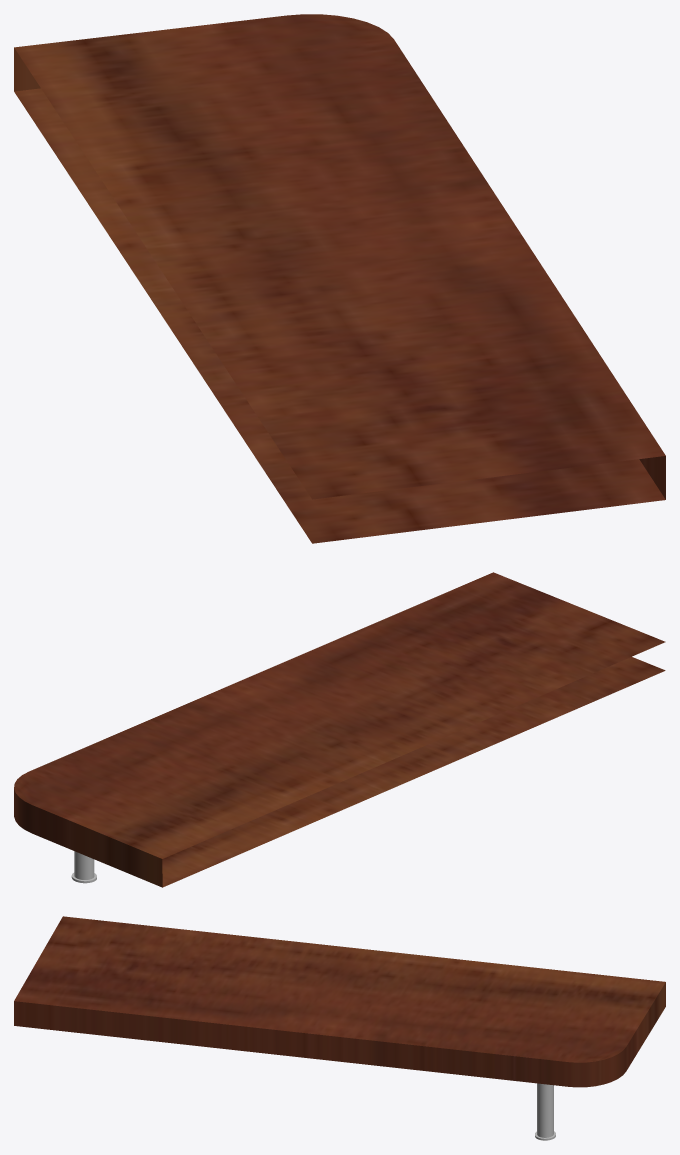
The model's file is banca_aula.glb.
3 views of the same model, one above another, from view 1: azimuth 30°, elevation 25°; view 2: azimuth 150°, elevation 25°; view 3: azimuth 270°, elevation 25° (orthographic). The views are drawn at different scales.
Visible parts, largest first — view 1: caja.006; view 2: caja.006; view 3: caja.006.
Boxes of the visible parts, x1,y1,x2,y2 form: caja.006: [14, 14, 665, 543]; caja.006: [14, 572, 665, 887]; caja.006: [14, 916, 665, 1140].
Bounding box in the file's own units: 8.71 × 2.54 × 16.39.
Materials: 2 (1 with a texture image).
